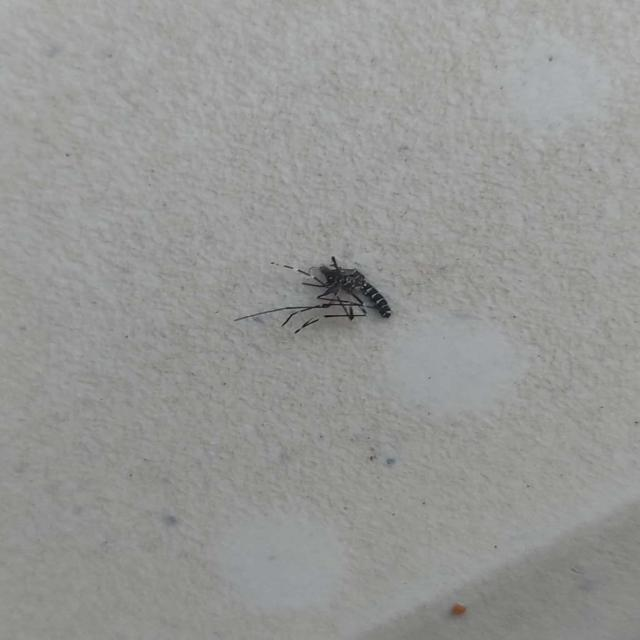albopictus: (244, 249, 395, 335)
